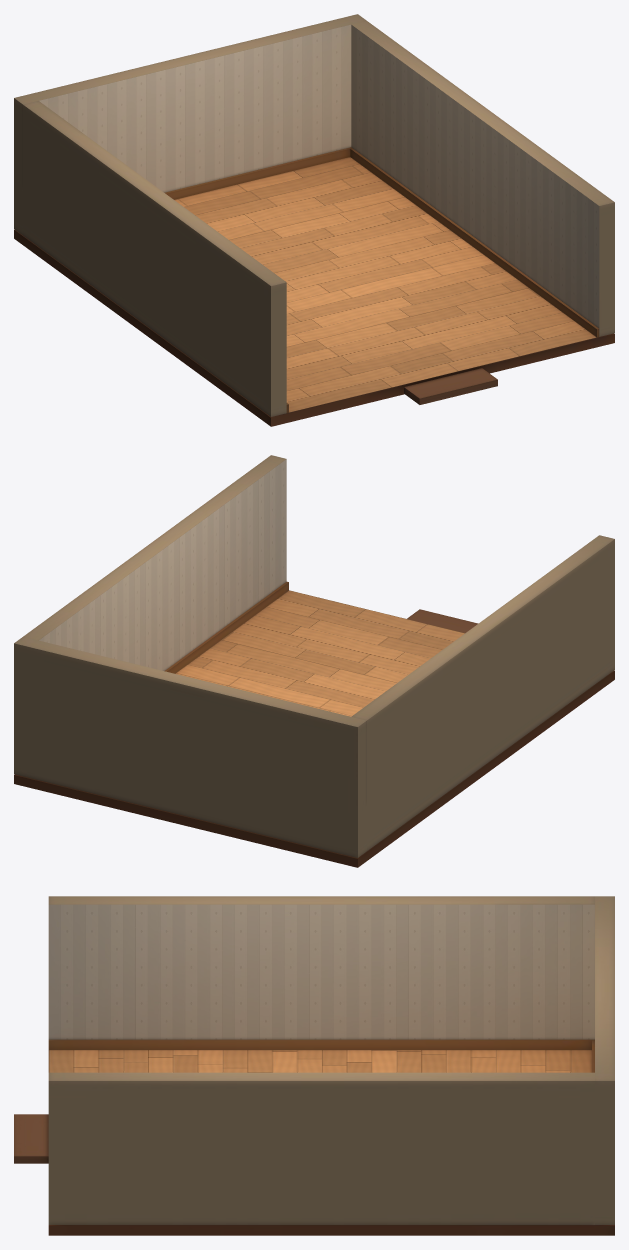
The model's file is lobby-room.glb.
The picture shows the model from 3 angles, top to bottom: view 1: azimuth 30°, elevation 25°; view 2: azimuth 150°, elevation 25°; view 3: azimuth 270°, elevation 25°; orthographic projection. The views are drawn at different scales.
Parts seen in each view (by area): view 1: floor, wall_trim, wall_back, wall_right, slab, baseboard, step; view 2: wall_trim, wall_right, floor, slab, baseboard, step; view 3: wall_trim, wall_left, floor, slab, baseboard, step.
Part boxes in pixels (bbox=[...]): floor: bbox=[174, 157, 596, 412]; wall_trim: bbox=[14, 14, 614, 416]; wall_back: bbox=[39, 24, 351, 192]; wall_right: bbox=[351, 25, 599, 328]; slab: bbox=[14, 229, 614, 426]; baseboard: bbox=[164, 147, 599, 412]; step: bbox=[404, 368, 497, 404]; wall_trim: bbox=[14, 455, 614, 857]; wall_right: bbox=[39, 459, 286, 670]; floor: bbox=[175, 590, 464, 716]; slab: bbox=[14, 670, 614, 867]; baseboard: bbox=[164, 581, 288, 673]; step: bbox=[407, 609, 478, 633]; wall_trim: bbox=[48, 896, 614, 1224]; wall_left: bbox=[48, 904, 594, 1039]; floor: bbox=[48, 1050, 591, 1072]; slab: bbox=[48, 1225, 614, 1235]; baseboard: bbox=[48, 1039, 594, 1072]; step: bbox=[14, 1114, 48, 1163].
Bounding box in the file's own units: 8.8 × 3.44 × 12.1.
8 materials, 8 textured.
